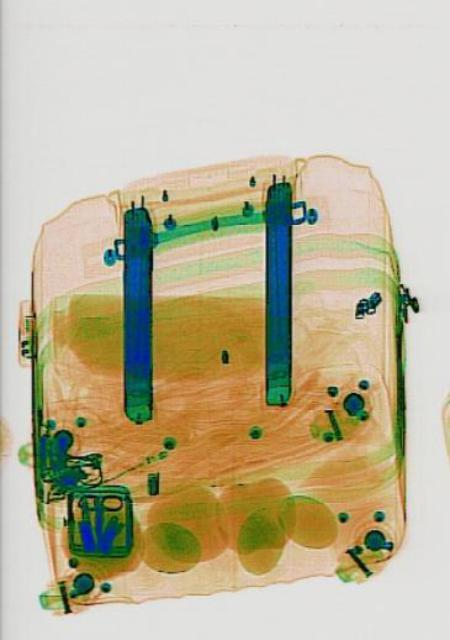Scissors: (74, 493, 121, 541)
